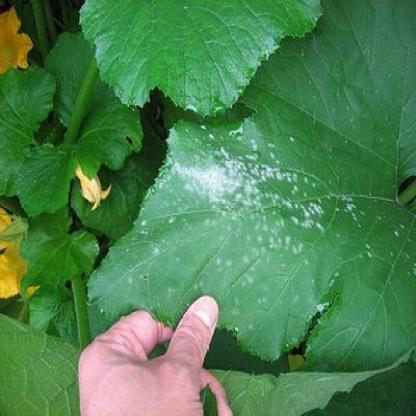squash powdery mildew leaf: (82, 101, 406, 345)
